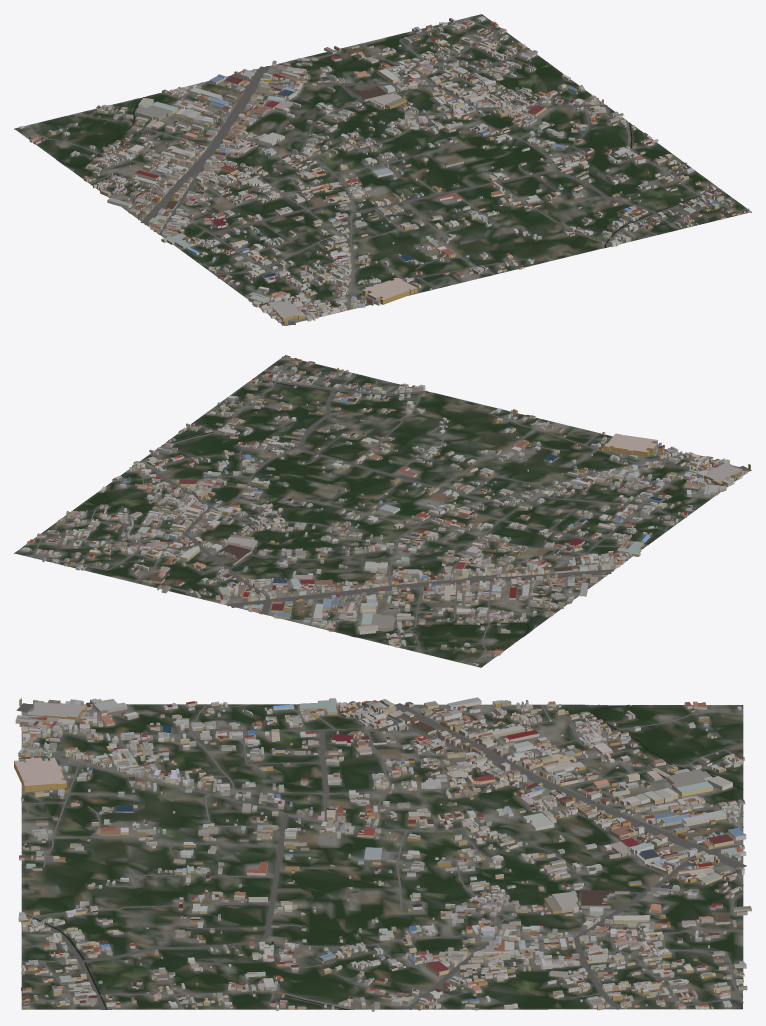
The picture shows the model from 3 angles, top to bottom: view 1: azimuth 30°, elevation 25°; view 2: azimuth 150°, elevation 25°; view 3: azimuth 270°, elevation 25°; orthographic projection. The views are drawn at different scales.
Visible parts, largest first — view 1: ground, buildings, roads; view 2: ground, buildings, roads; view 3: ground, buildings, roads, water.
Part boxes in pixels (<box>): ground: <box>14,14,751,323</box>; buildings: <box>19,16,749,325</box>; roads: <box>26,16,743,325</box>; ground: <box>14,358,744,667</box>; buildings: <box>21,355,750,665</box>; roads: <box>23,358,751,664</box>; ground: <box>21,704,743,1009</box>; buildings: <box>14,697,751,1011</box>; roads: <box>16,703,746,1009</box>; water: <box>26,704,743,1009</box>.
Size of the model in its own units: 1426 by 24.3 by 1432.
